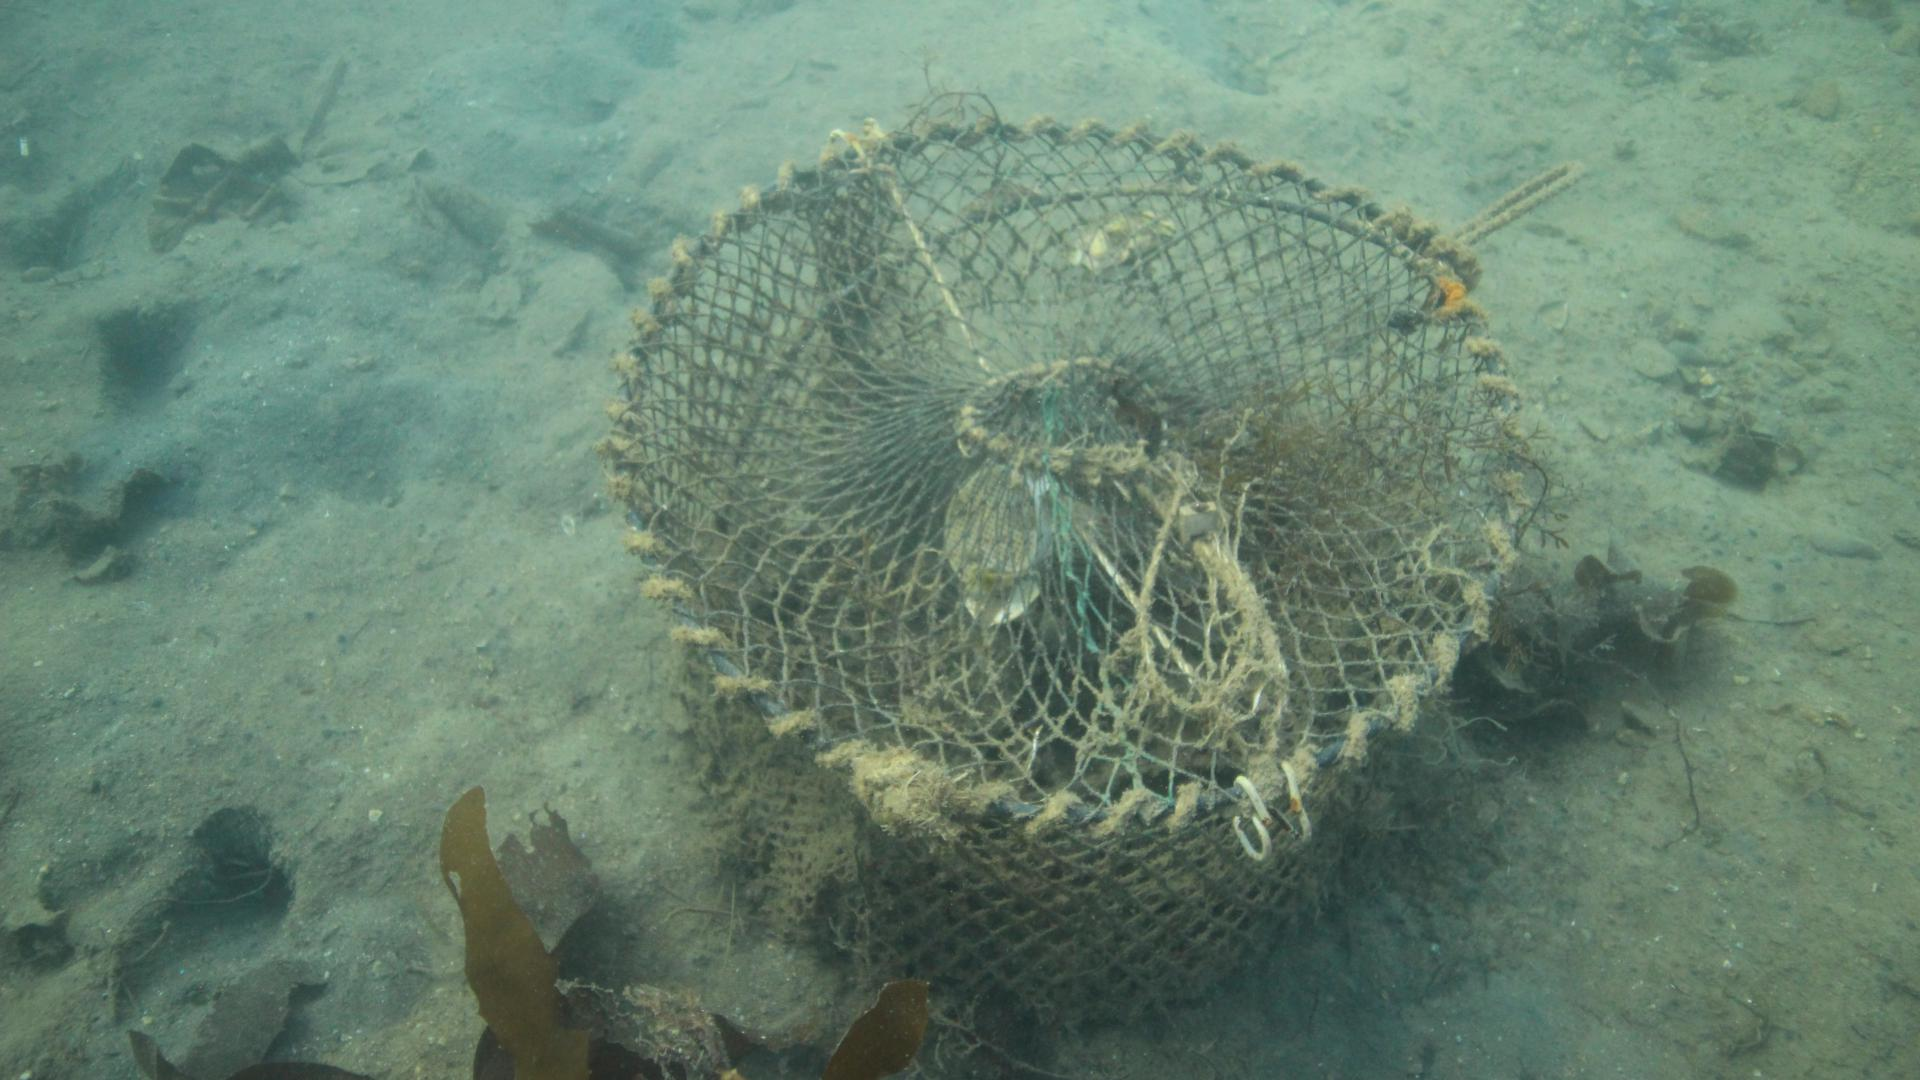circular fish trap: (603, 113, 1531, 1022)
rope: (1455, 156, 1592, 243)
